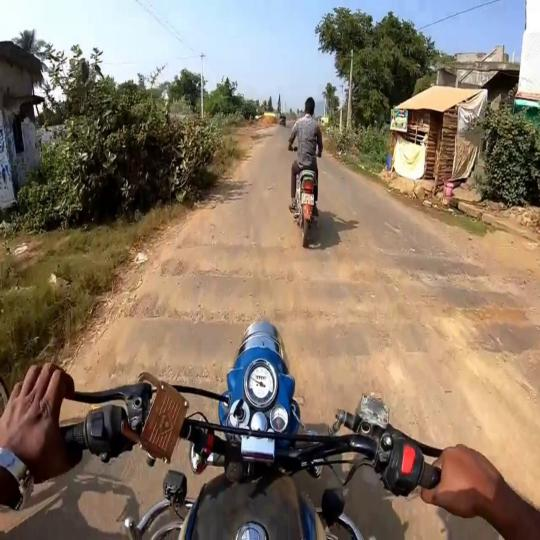Speed Bump: (140, 272, 527, 315), (284, 315, 539, 359), (159, 244, 489, 276), (99, 316, 239, 361)
